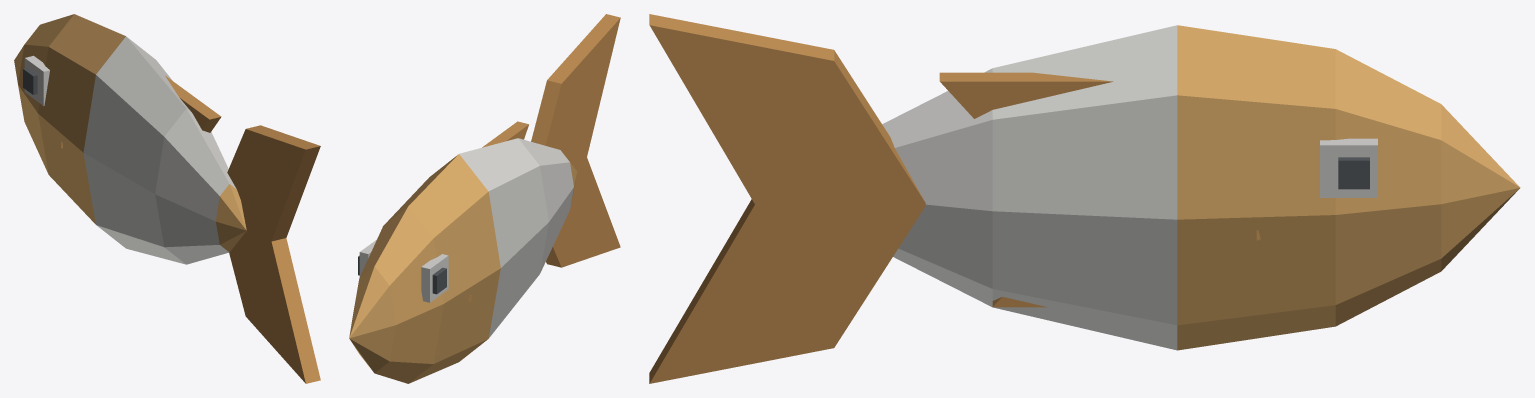
The model's file is fish_clown.glb.
3 renders of one model, left to right at view 1: azimuth 30°, elevation 25°; view 2: azimuth 150°, elevation 25°; view 3: azimuth 270°, elevation 25°, orthographic. The views are drawn at different scales.
Visible parts, largest first — view 1: fish_clown; view 2: fish_clown; view 3: fish_clown.
Boxes of the visible parts, x1=… form: fish_clown: x1=14, y1=14, x2=320, y2=383; fish_clown: x1=349, y1=14, x2=620, y2=383; fish_clown: x1=649, y1=14, x2=1520, y2=383.
Size of the model in its own units: 0.0571 by 0.15 by 0.33.
